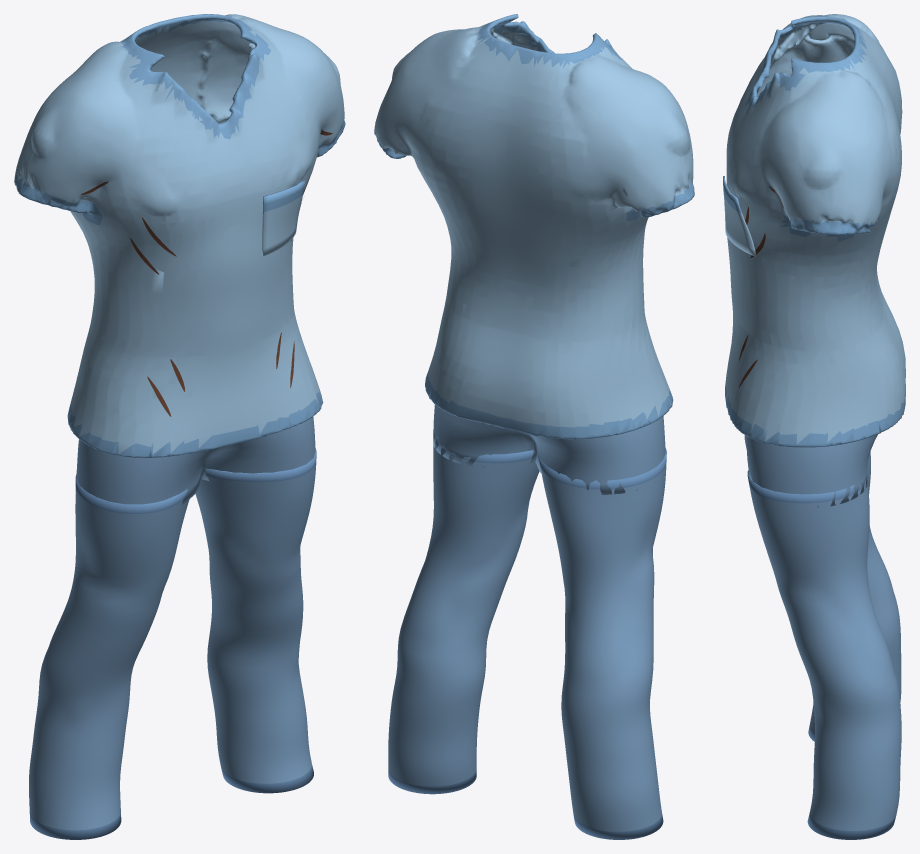
Rendered from er_patient_clothes_m.glb.
3 views of the same model, side by side, from view 1: azimuth 30°, elevation 25°; view 2: azimuth 150°, elevation 25°; view 3: azimuth 270°, elevation 25° (orthographic). The views are drawn at different scales.
Parts seen in each view (by area): view 1: patient_shirt, patient_pants, patient_pocket, patient_folds; view 2: patient_shirt, patient_pants; view 3: patient_shirt, patient_pants, patient_pocket.
Part boxes in pixels (box(x1,y1,x2,y2)): patient_shirt: box(14, 14, 345, 457); patient_pants: box(29, 417, 316, 839); patient_pocket: box(262, 180, 305, 256); patient_folds: box(81, 129, 332, 416); patient_shirt: box(374, 14, 694, 439); patient_pants: box(388, 404, 666, 839); patient_shirt: box(725, 14, 905, 447); patient_pants: box(744, 434, 901, 839); patient_pocket: box(723, 176, 756, 256).
Bounding box in the file's own units: 0.5813 × 1.35 × 0.3034.
